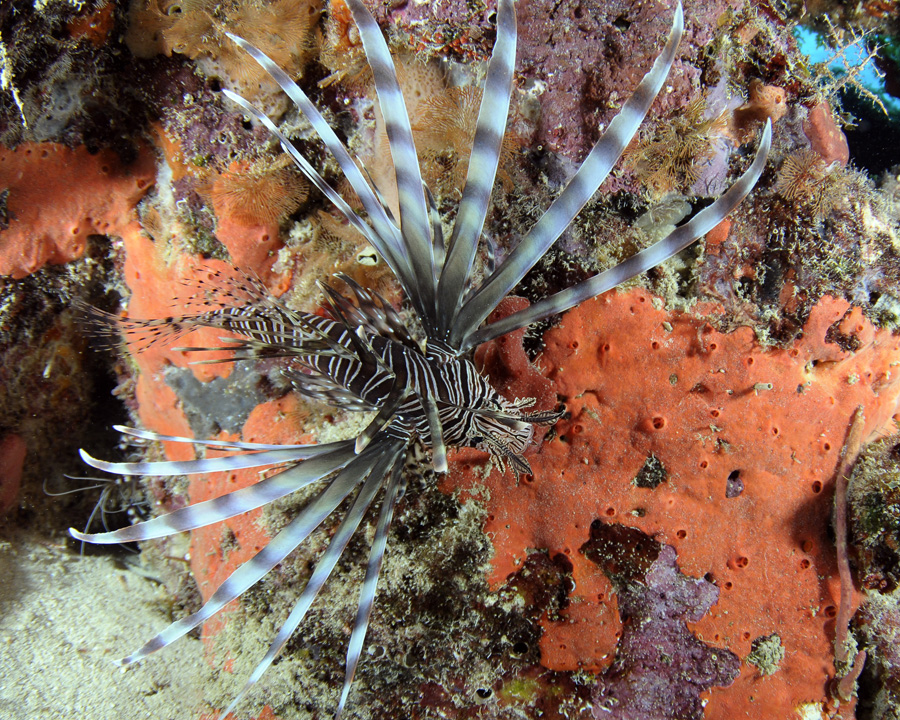Pterois_volitans: (119, 26, 624, 571)
